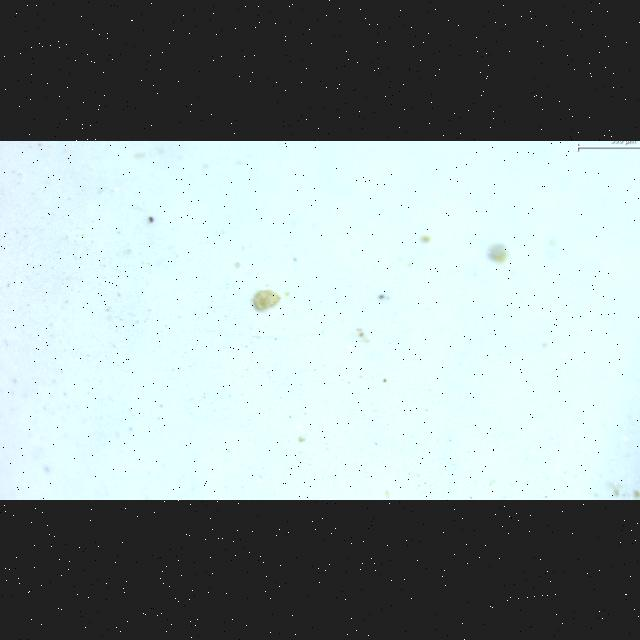Fibre: (225, 321, 338, 339)
Fragment: (253, 289, 281, 309)
